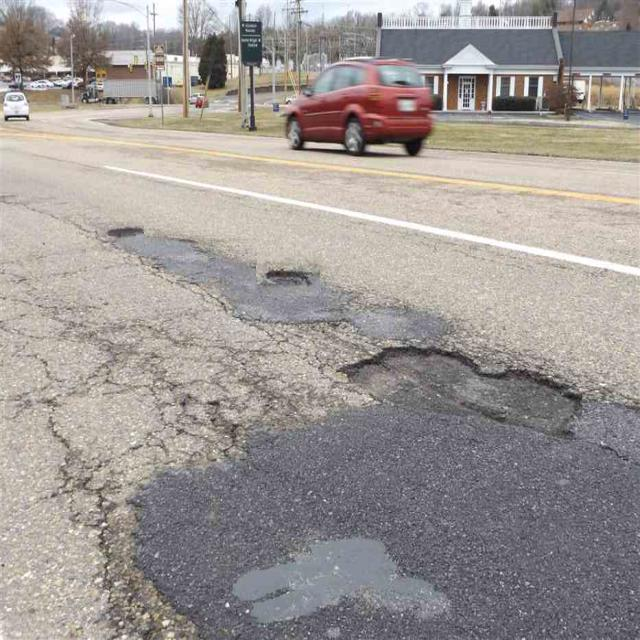Pothole: (347, 327, 582, 446), (256, 253, 322, 296), (97, 225, 144, 252)
